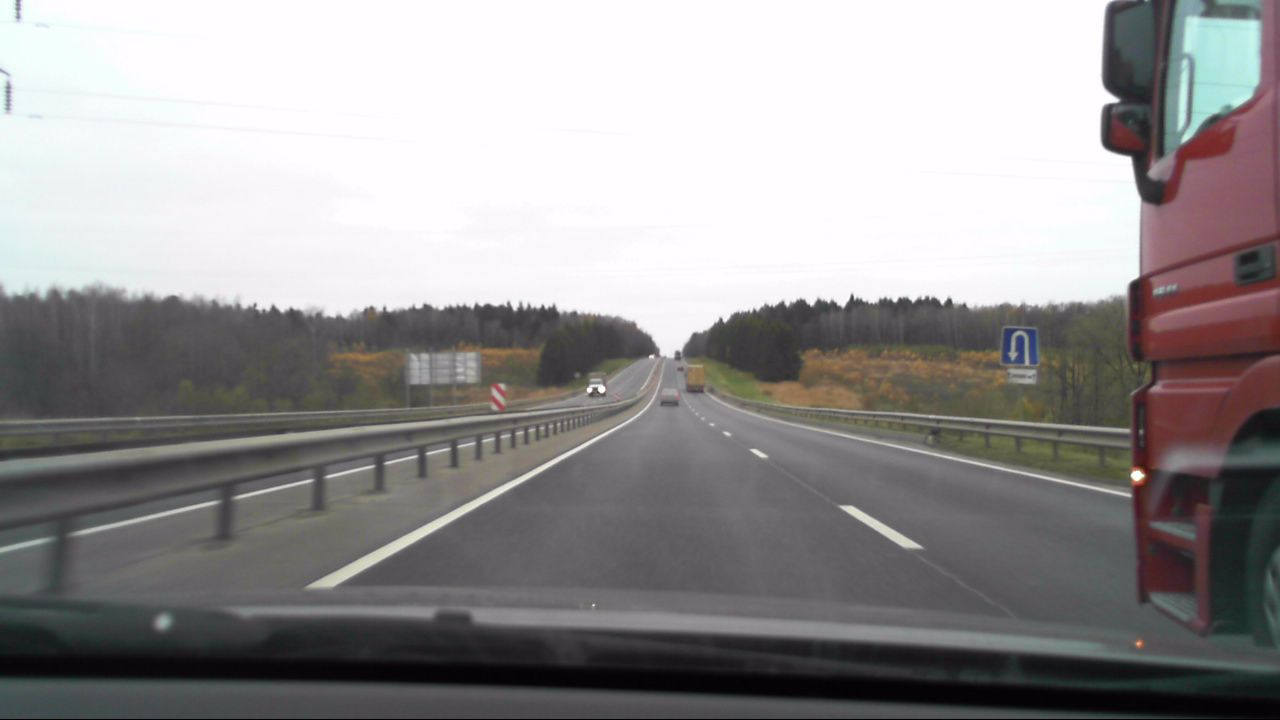U-turn: (1002, 327, 1038, 365)
